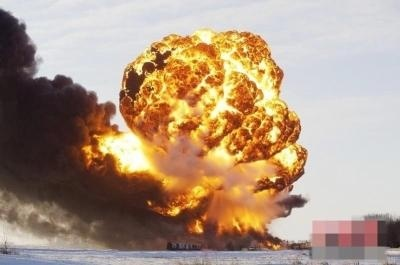fire: (83, 24, 309, 243)
